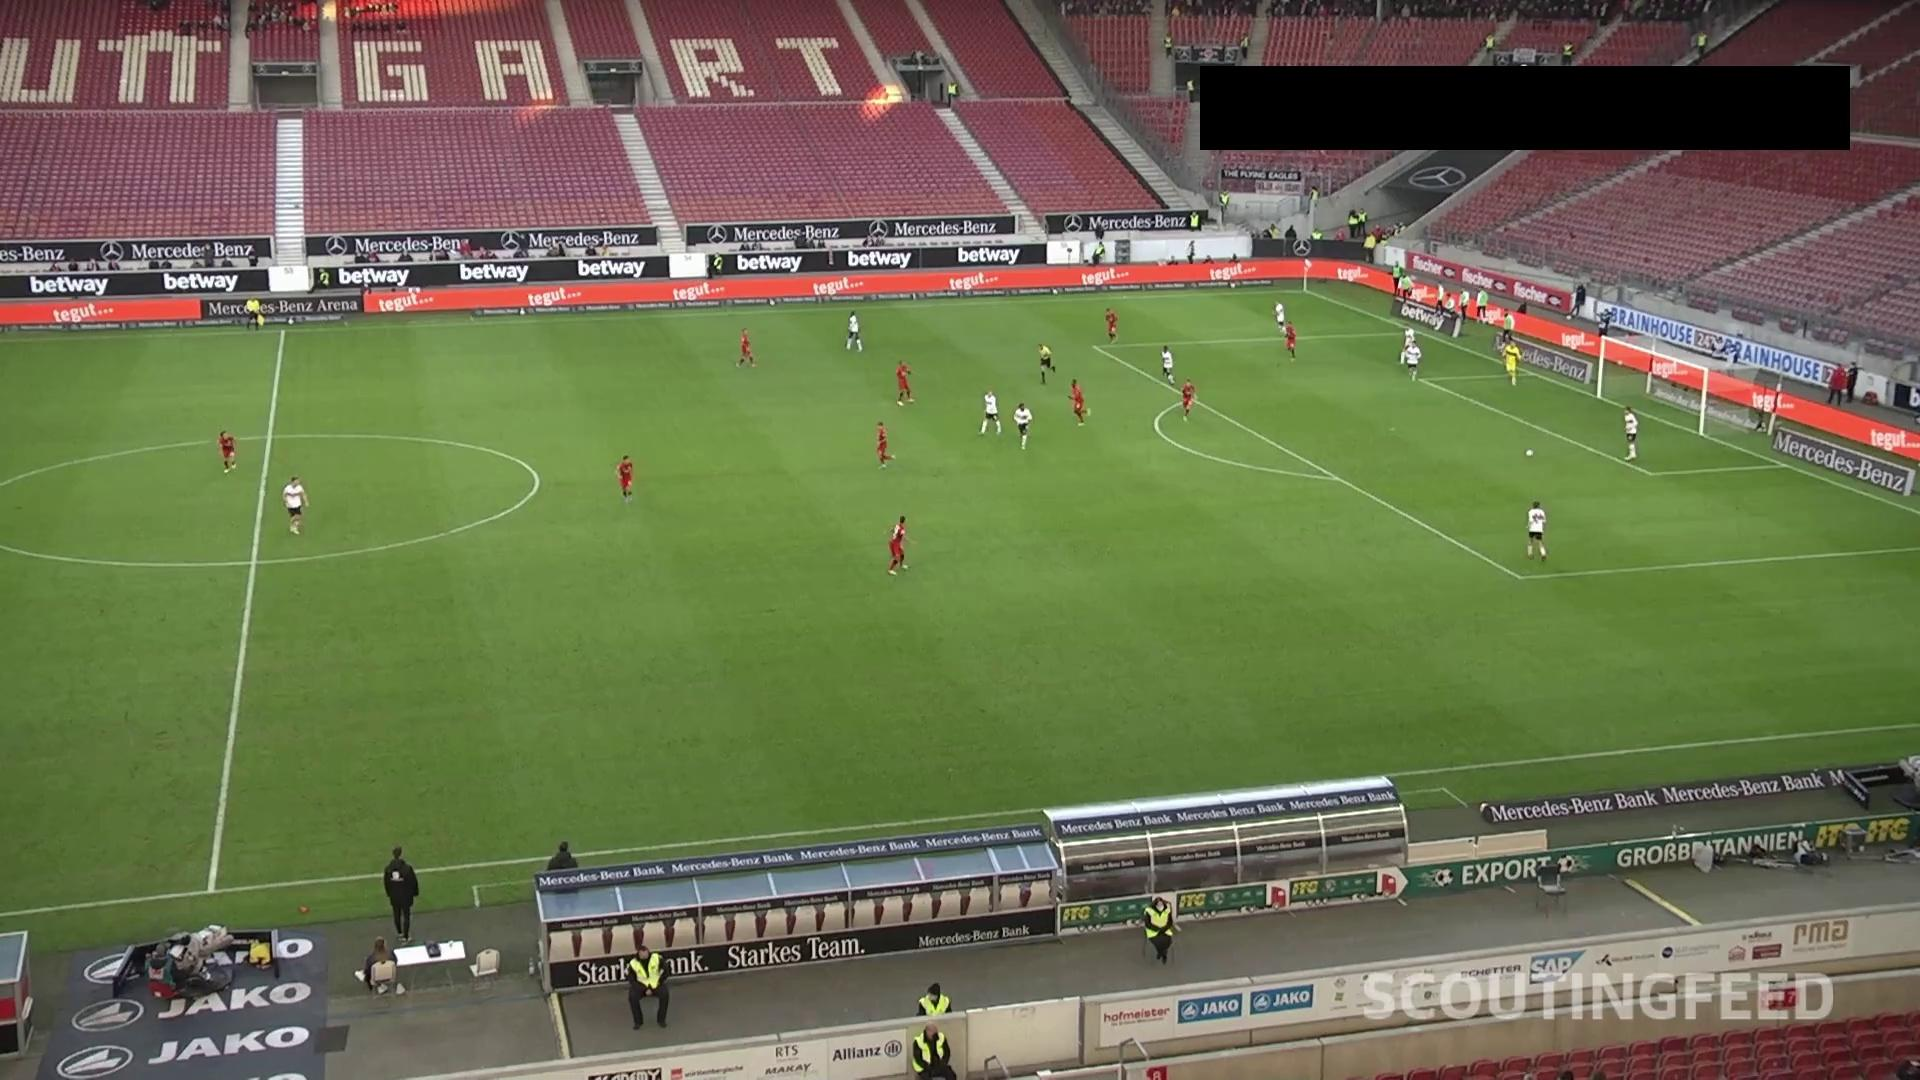Location-of-ball: (1515, 434, 1547, 469)
